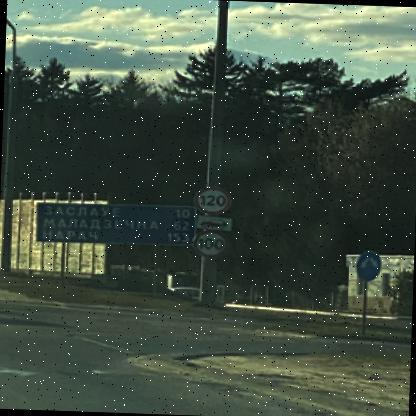speedlimit: (190, 186, 227, 214), (190, 228, 226, 254)
